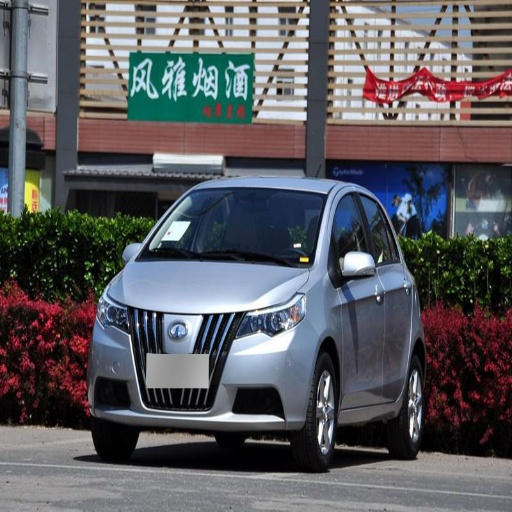front_bumper: (93, 306, 316, 430)
front_glass: (134, 187, 327, 267)
front_left_door: (330, 189, 385, 408)
